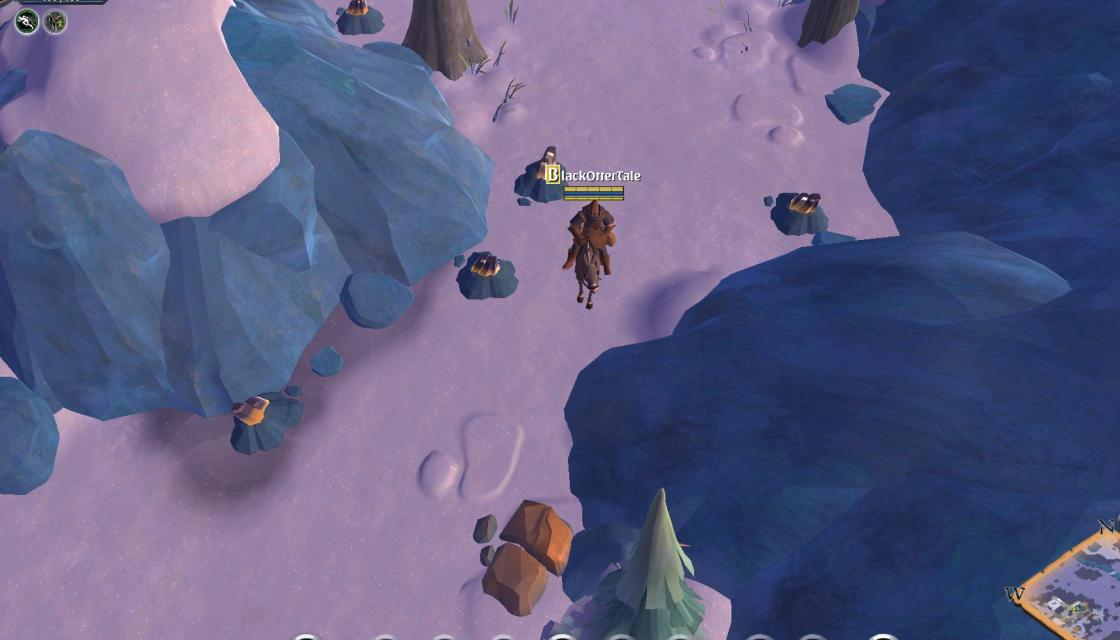copperore: (226, 392, 298, 450), (458, 242, 518, 298), (518, 144, 569, 198), (764, 190, 826, 233), (335, 0, 388, 39)
limestone: (467, 497, 573, 617)
